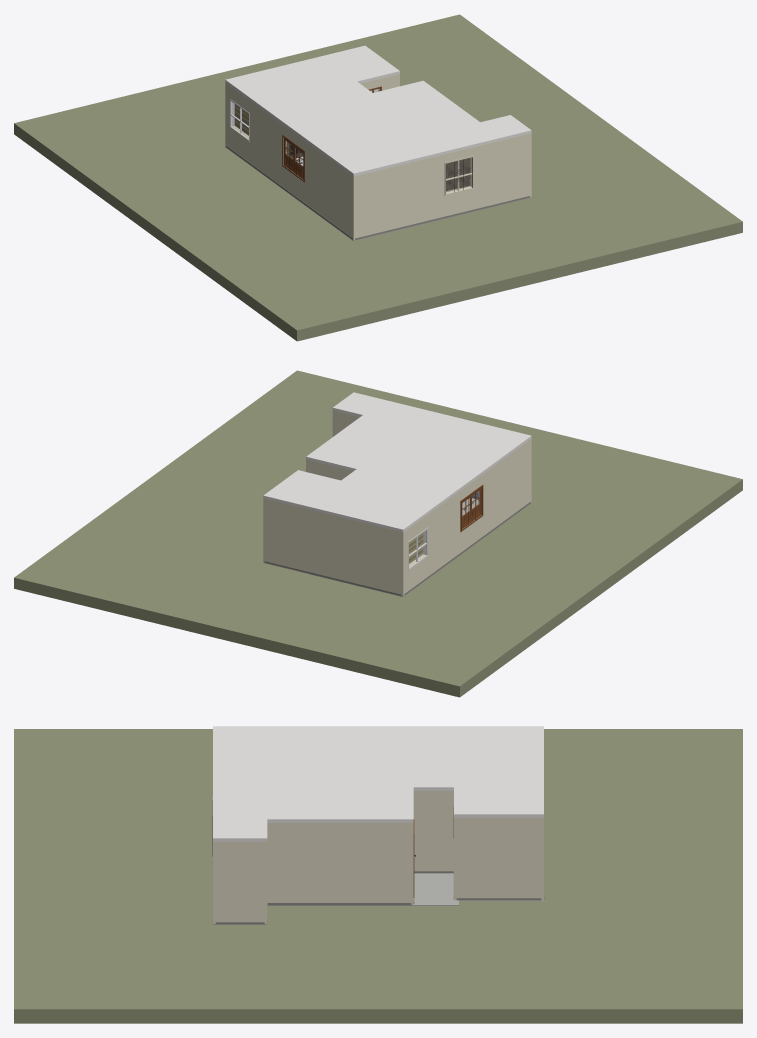
The model's file is flat-04-luz.glb.
3 views of the same model, one above another, from view 1: azimuth 30°, elevation 25°; view 2: azimuth 150°, elevation 25°; view 3: azimuth 270°, elevation 25° (orthographic). The views are drawn at different scales.
Visible parts, largest first — view 1: terreno, teto_sala, sala_B, teto_quarto, sala_L, quarto_X, lav_S, teto_banheiro, sala_B_janela, teto_lavanderia, sala_L_janela, sala_B_persiana (+1 smaller); view 2: terreno, teto_sala, fundo_H, teto_quarto, sala_L, quarto_X, teto_banheiro, sala_L_janela, teto_lavanderia, quarto_X_janela; view 3: terreno, teto_sala, sala_R, teto_quarto, banheiro_R, lav_R, quarto_Y, teto_banheiro, piso_varanda, teto_lavanderia, fundo_H.
Part boxes in pixels (x1,y1,x2,y2): terreno: [14, 14, 742, 341]; teto_sala: [275, 80, 501, 176]; sala_B: [355, 141, 499, 239]; teto_quarto: [225, 57, 372, 118]; sala_L: [276, 121, 356, 240]; quarto_X: [225, 83, 277, 183]; lav_S: [500, 133, 531, 204]; teto_banheiro: [319, 45, 399, 83]; sala_B_janela: [444, 155, 473, 196]; teto_lavanderia: [481, 115, 531, 140]; sala_L_janela: [282, 135, 304, 182]; sala_B_persiana: [446, 158, 470, 191]; terreno: [14, 370, 742, 697]; teto_sala: [306, 399, 531, 495]; fundo_H: [264, 499, 401, 595]; teto_quarto: [309, 469, 453, 532]; sala_L: [455, 439, 531, 558]; quarto_X: [400, 494, 455, 596]; teto_banheiro: [263, 470, 343, 509]; sala_L_janela: [460, 485, 483, 532]; teto_lavanderia: [332, 392, 383, 416]; quarto_X_janela: [408, 527, 427, 570]; terreno: [14, 729, 742, 1023]; teto_sala: [213, 726, 413, 822]; sala_R: [267, 823, 413, 905]; teto_quarto: [413, 726, 543, 790]; banheiro_R: [456, 818, 541, 900]; lav_R: [213, 842, 267, 924]; quarto_Y: [413, 791, 453, 873]; teto_banheiro: [454, 785, 543, 817]; piso_varanda: [409, 873, 458, 905]; teto_lavanderia: [213, 819, 267, 841]; fundo_H: [538, 811, 544, 900].
Size of the model in its own units: 19.72 by 3.32 by 21.69.
